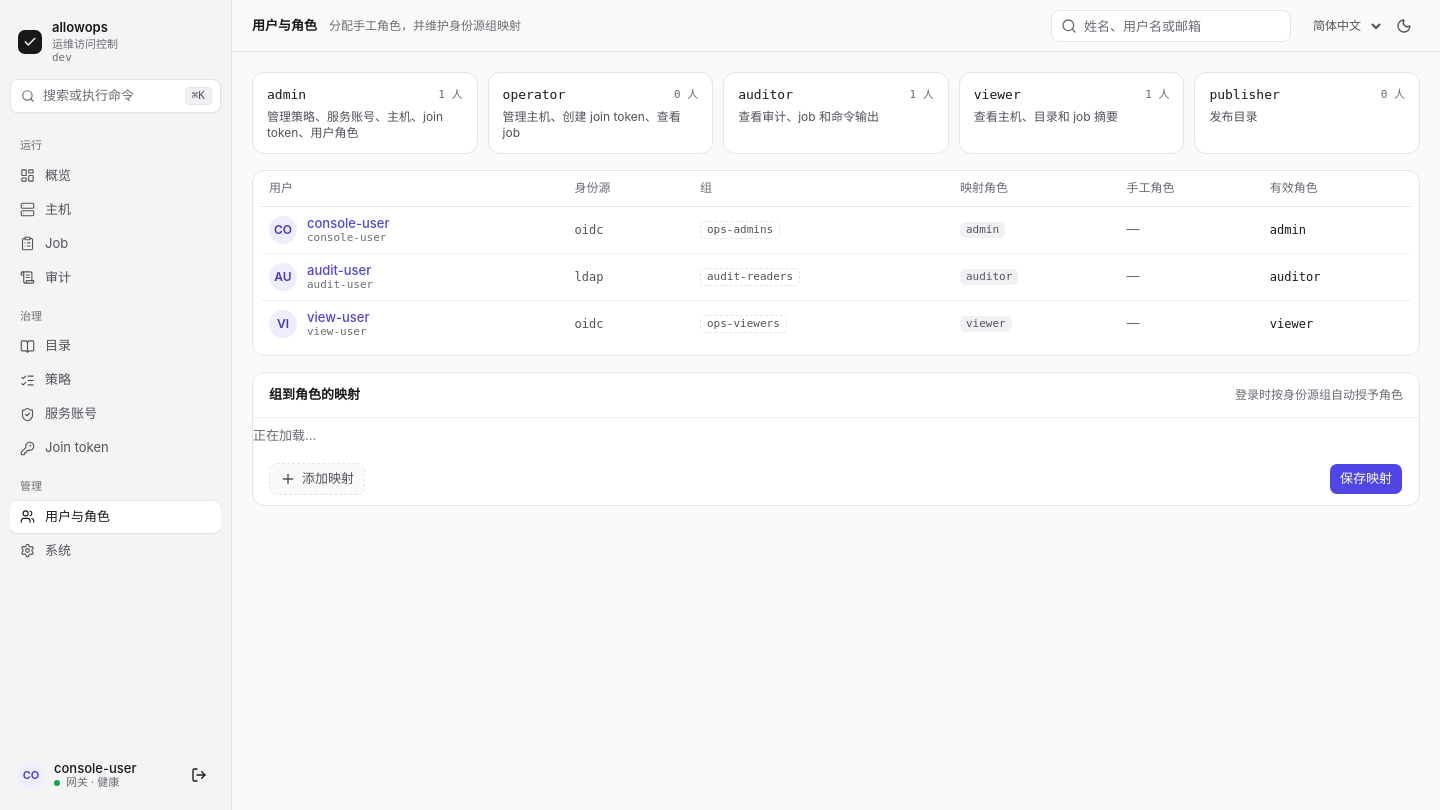
Test: users redesign › filters users by name
Expected: the heading "用户与角色" is shown, [252, 16, 317, 35]
Expected: the button with aria-label "分配角色 audit-user" is shown, [307, 262, 371, 278]
Type "view" into the field named "搜索用户".
click(1171, 26); type("view")  # box [1051, 10, 1291, 42]
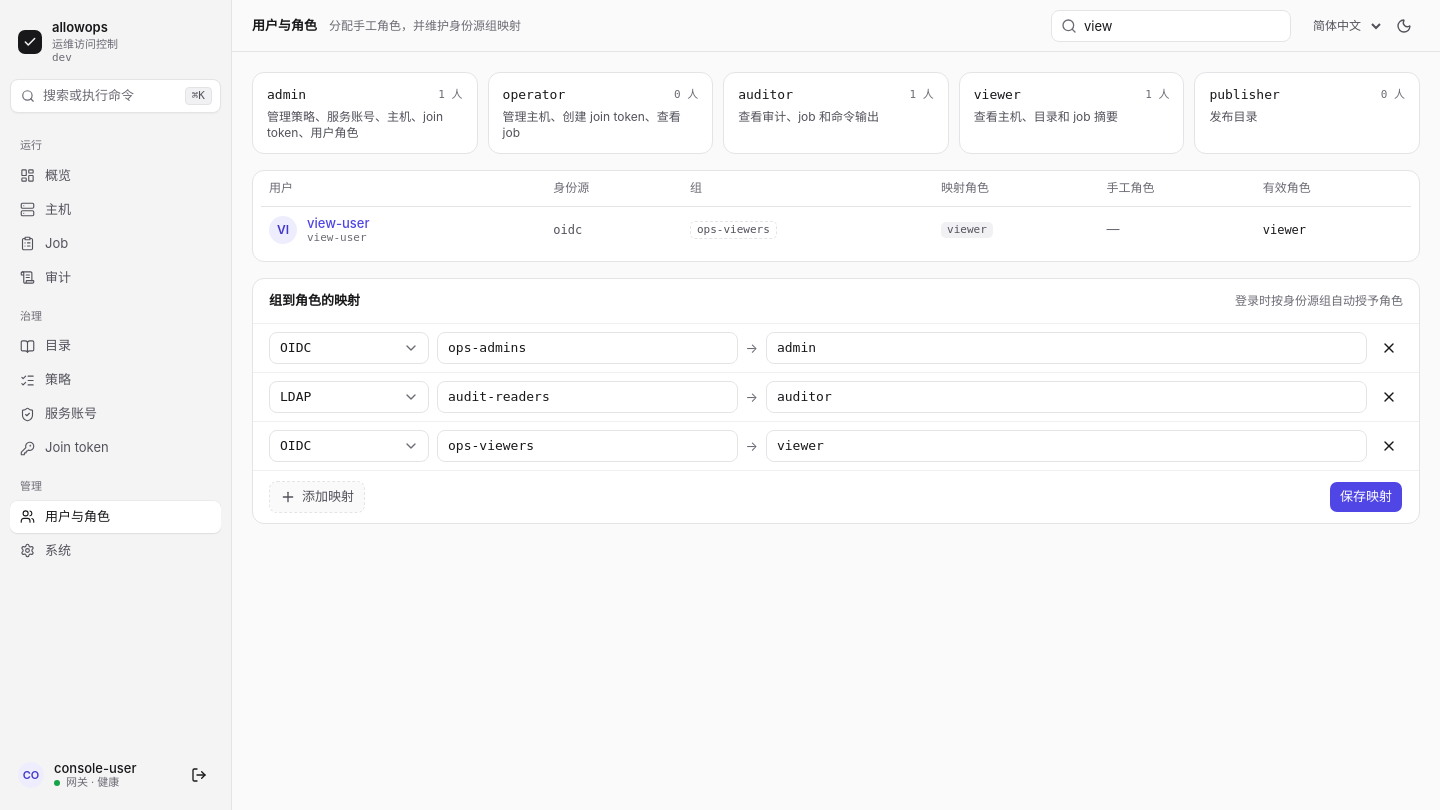
Result: the button with aria-label "分配角色 view-user" is shown at [307, 215, 370, 231]
